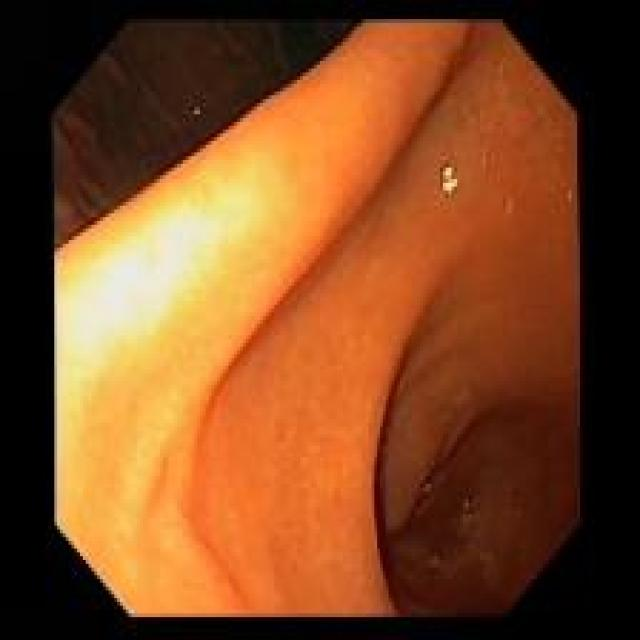bubbles: (482, 549, 510, 596), (440, 157, 463, 199), (428, 545, 451, 576), (189, 103, 206, 120), (461, 493, 473, 509), (423, 481, 433, 495)
contrast: (53, 19, 352, 139)
saturation: (55, 252, 273, 616), (56, 143, 333, 251)
specularity: (438, 156, 460, 196)
